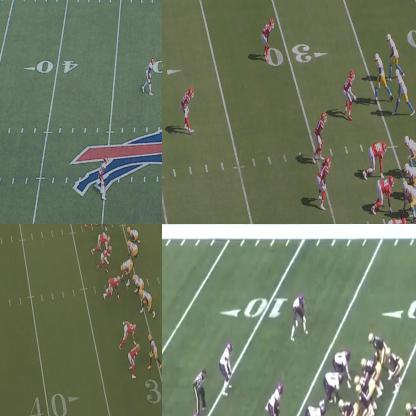CENTER: (400, 181, 416, 211), (336, 395, 360, 415), (118, 258, 132, 276)
DB: (291, 289, 306, 336), (222, 340, 233, 391), (182, 87, 194, 130), (261, 18, 274, 57), (346, 72, 356, 116), (99, 157, 108, 202), (128, 344, 139, 379), (145, 60, 154, 95)
LB: (314, 114, 325, 165), (319, 163, 330, 210), (270, 384, 282, 415), (102, 248, 111, 270)
QB: (354, 384, 373, 415)
SKILL: (387, 349, 404, 385), (397, 71, 410, 112), (374, 54, 387, 93), (369, 333, 386, 362), (387, 34, 400, 68), (150, 334, 161, 368)
